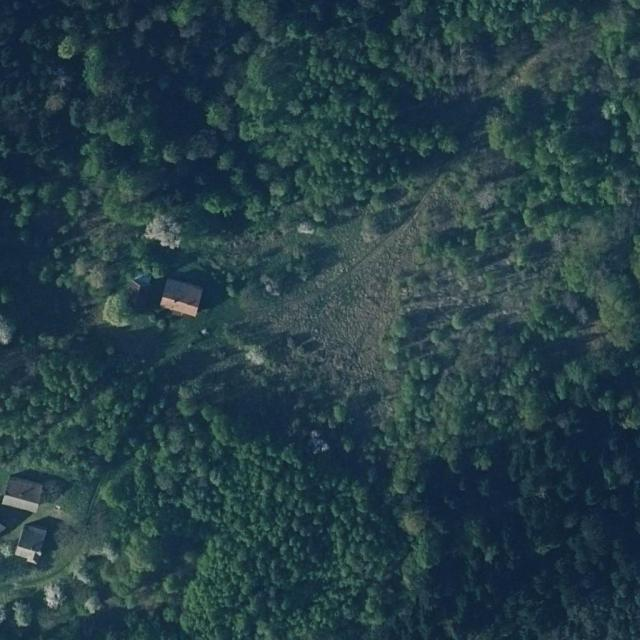building: (159, 277, 203, 319), (13, 524, 48, 565), (4, 475, 45, 503), (1, 494, 40, 514)
greenland: (385, 169, 640, 640), (166, 137, 550, 362), (156, 252, 396, 394), (39, 461, 205, 639), (0, 544, 65, 640), (155, 464, 220, 541)
